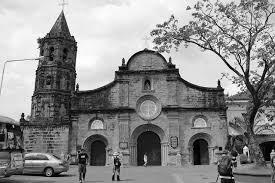barasoain_church_malolos_bulacan: (20, 1, 229, 167)
